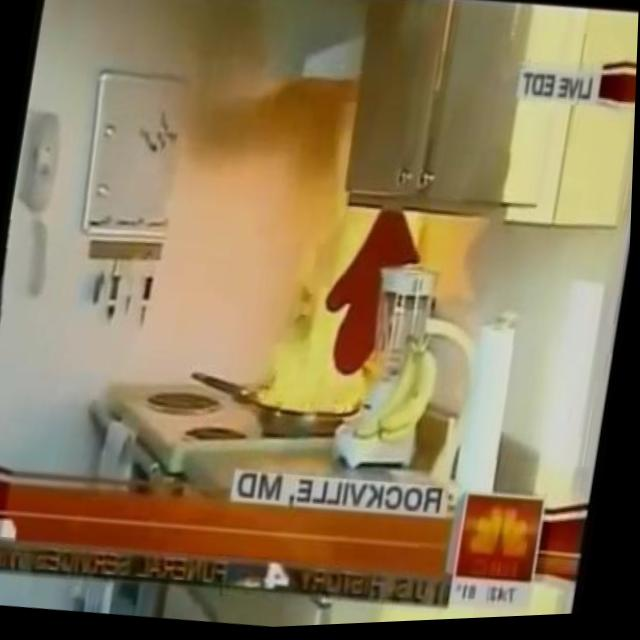fire: (256, 205, 388, 426)
